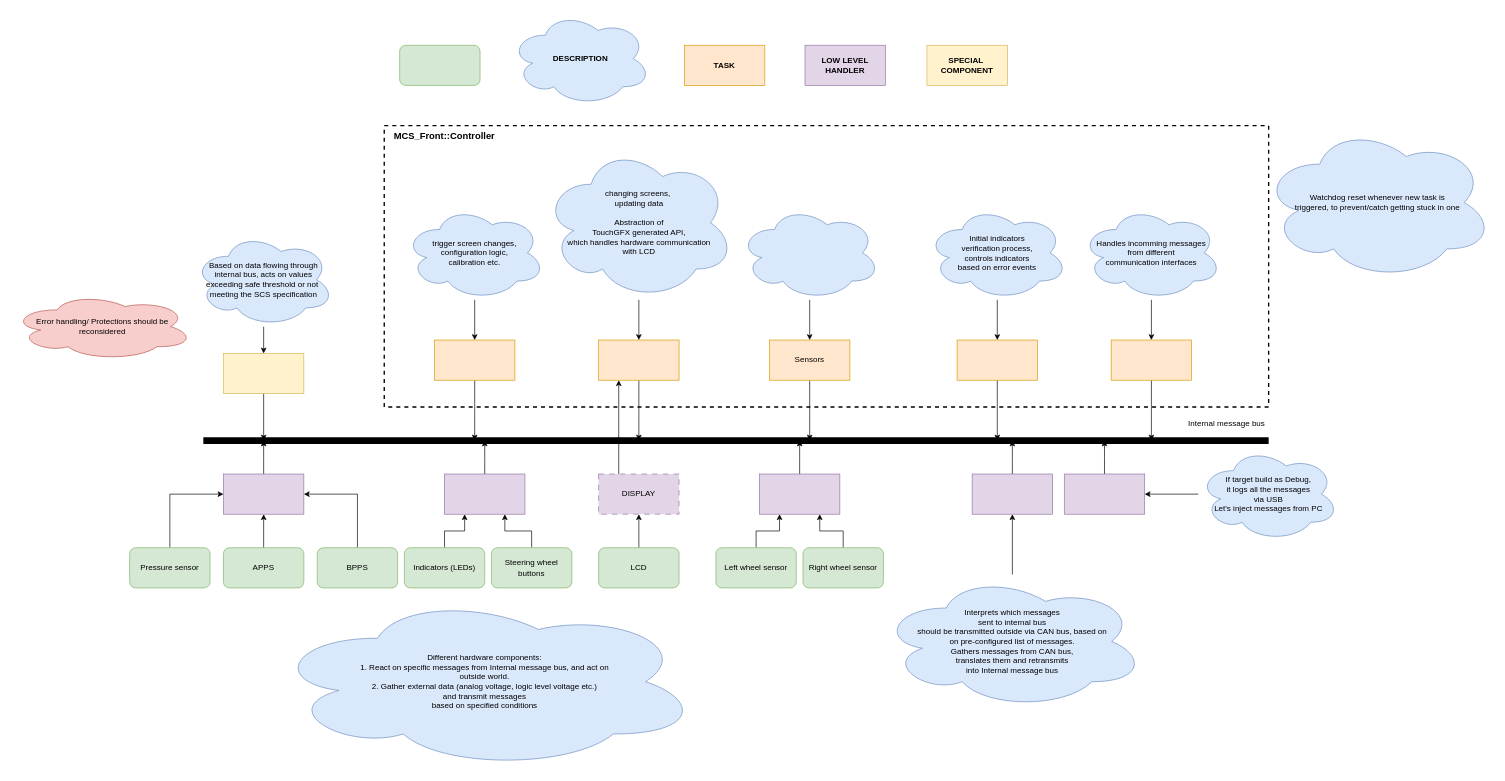
Image size: 1505x781. Some labels were removed from this diagram. The box of each missing label's shape, as (x1, y1, x2, y2) in pixels:
ADC: (223, 473, 304, 514)
CAN: (972, 473, 1053, 514)
COM: (1111, 339, 1192, 380)
Display Control: (598, 339, 679, 380)
Gathers data from different sensors, outputs sensor data in usefull format: (739, 205, 880, 300)
GPIO: (444, 473, 525, 514)
HARDWARE COMPONENT: (399, 45, 480, 85)
Indicators Control: (956, 339, 1037, 380)
Protections: (223, 353, 304, 394)
State Machine: (434, 339, 515, 380)
TIMERS: (759, 473, 840, 514)
UART: (1064, 473, 1145, 514)
